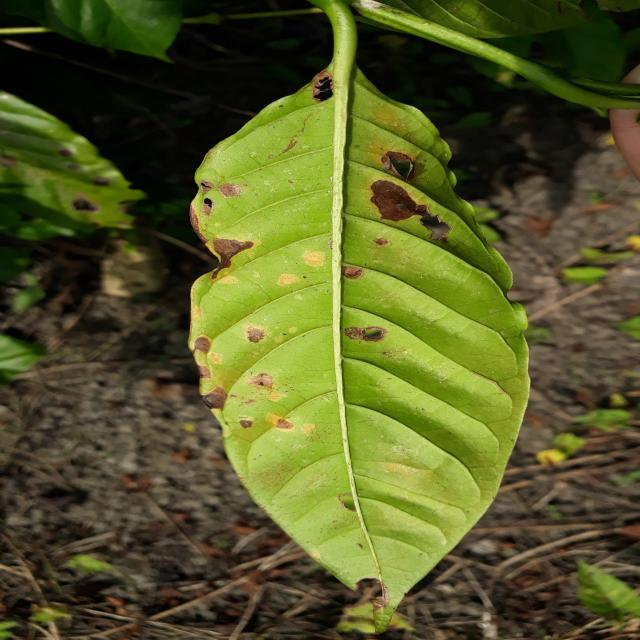Enfermedad-Roya: (187, 67, 530, 610)
